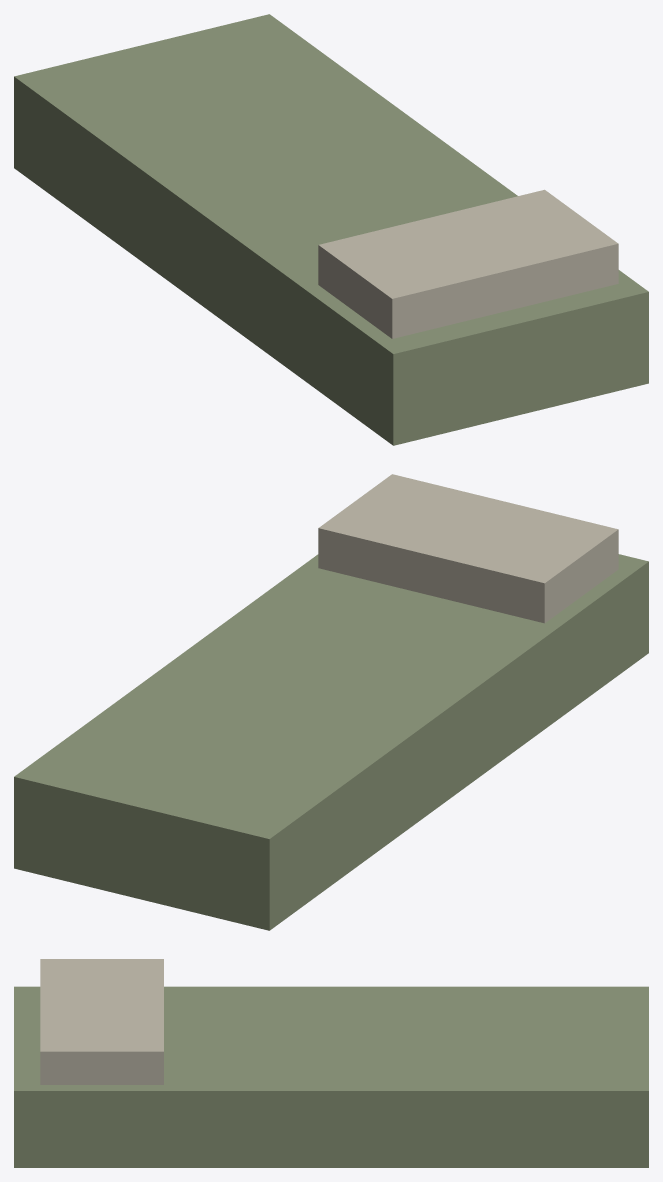
Rendered from bedroll.glb.
3 views of the same model, one above another, from view 1: azimuth 30°, elevation 25°; view 2: azimuth 150°, elevation 25°; view 3: azimuth 270°, elevation 25° (orthographic). The views are drawn at different scales.
Parts seen in each view (by area): view 1: body; view 2: body; view 3: body.
Boxes of the visible parts, x1,y1,x2,y2 form: body: (14, 14, 648, 445); body: (14, 474, 648, 930); body: (14, 959, 648, 1167).
Bounding box in the file's own units: 0.7 × 0.345 × 1.8.
